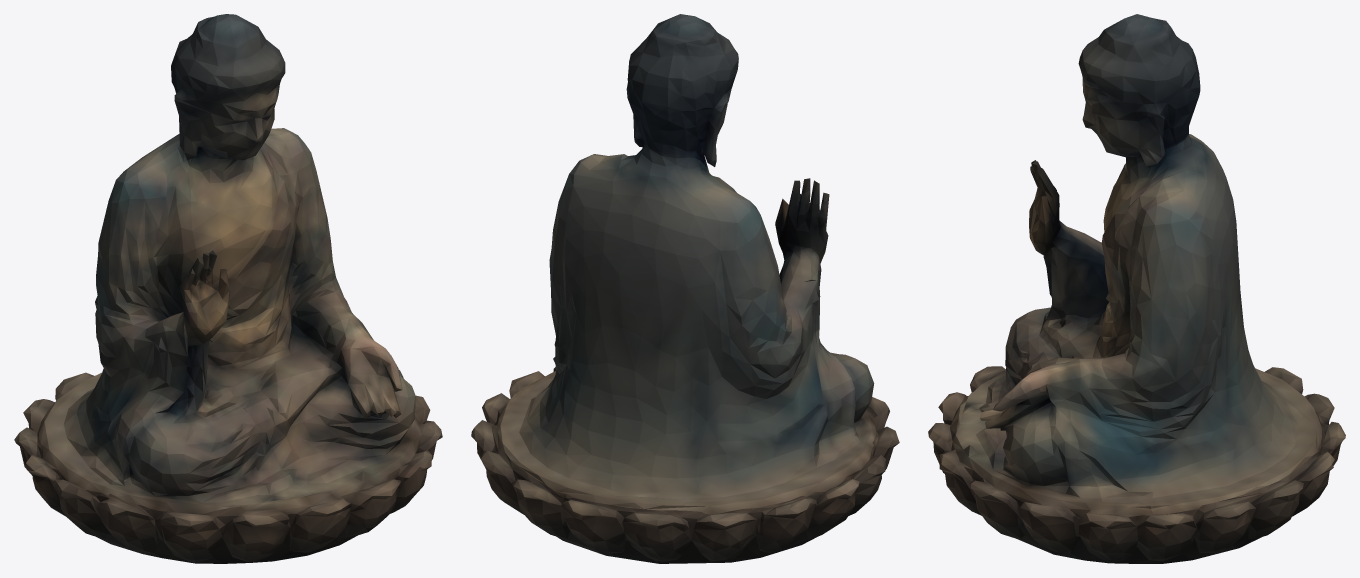
File: Sample_VLow.glb
3 renders of one model, left to right at view 1: azimuth 30°, elevation 25°; view 2: azimuth 150°, elevation 25°; view 3: azimuth 270°, elevation 25°, orthographic.
Parts seen in each view (by area): view 1: big buddha_copy002; view 2: big buddha_copy002; view 3: big buddha_copy002.
Boxes of the visible parts, x1,y1,x2,y2 form: big buddha_copy002: [14, 14, 442, 563]; big buddha_copy002: [471, 14, 899, 563]; big buddha_copy002: [928, 14, 1345, 563].
Bounding box in the file's own units: 60.25 × 74.99 × 59.37.
Materials: 1 (1 with a texture image).
